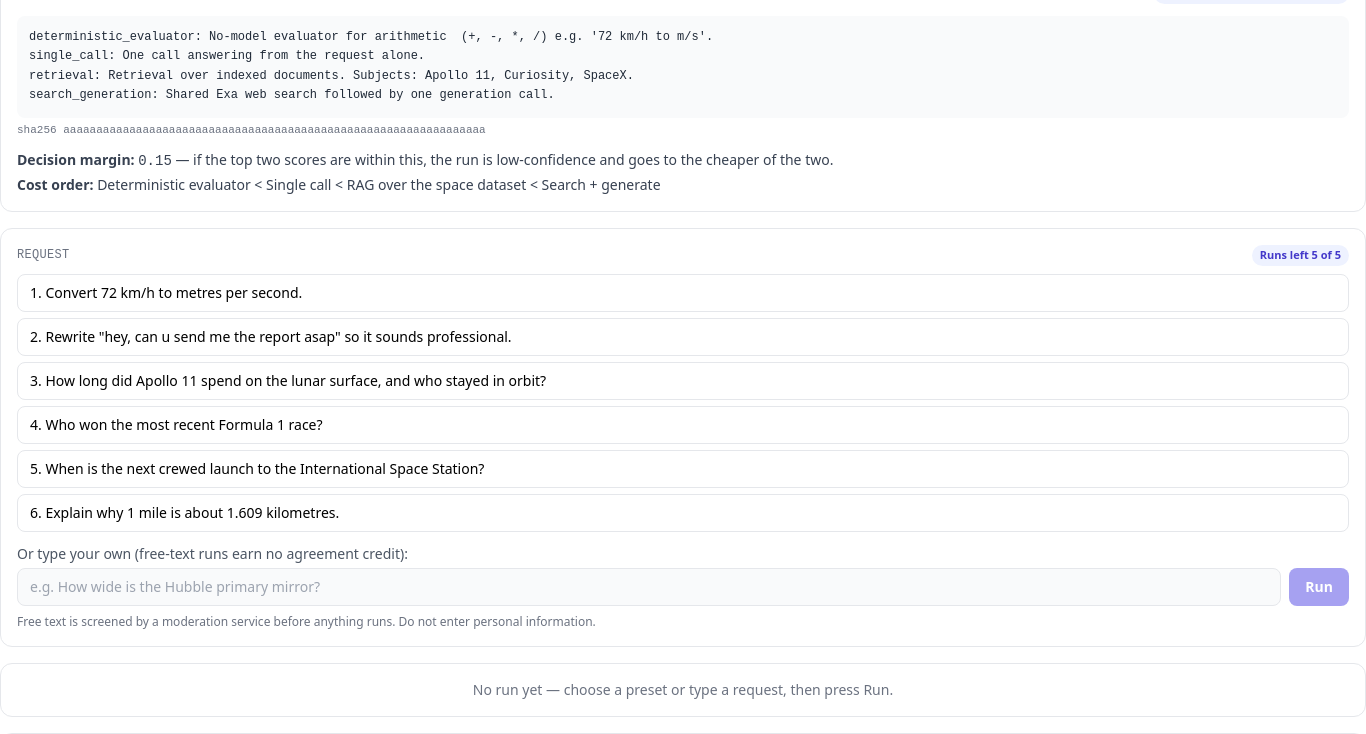
Test: a routed preset run › sends the preset id and its canonical text
The width and height of the screenshot is (1366, 734).
Click the button "next crewed launch".
click(265, 468)  # box left=17, top=450, right=1349, bottom=488
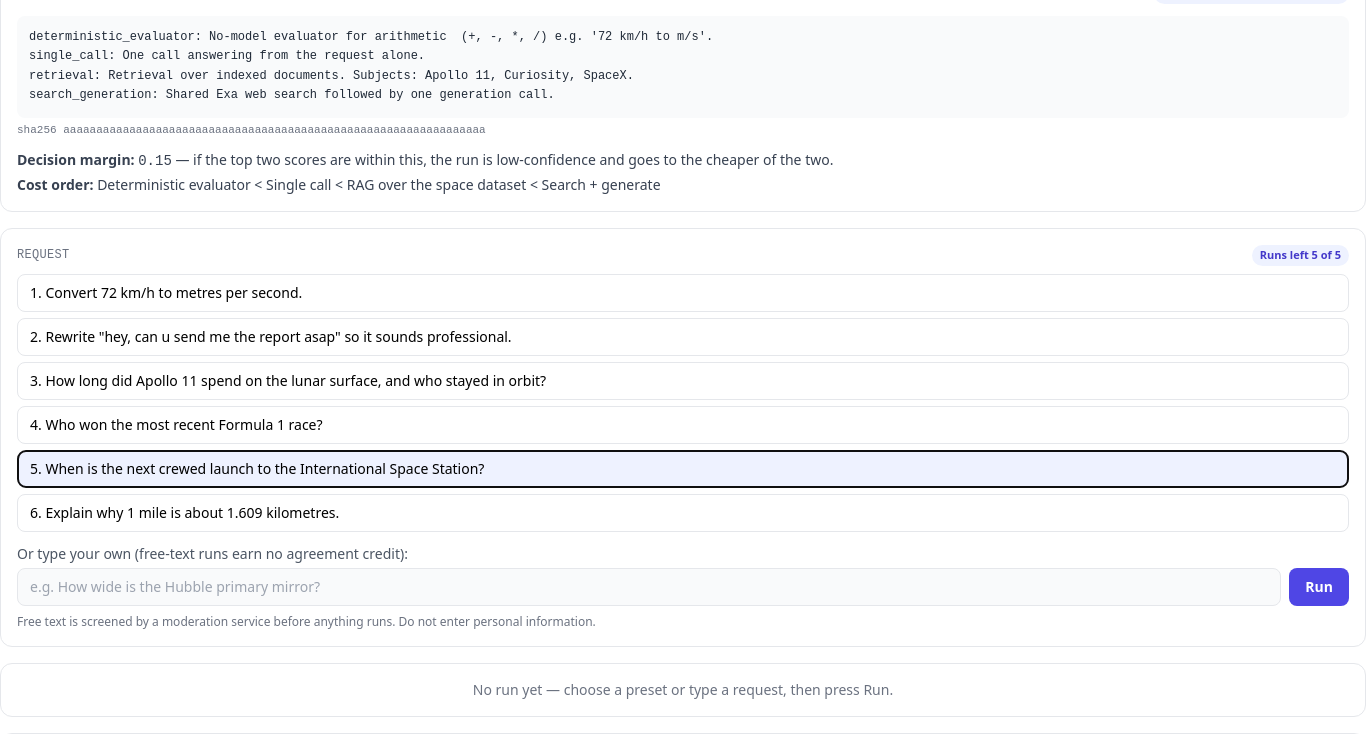
Click the button "Run".
click(1319, 586)  # box left=1289, top=568, right=1349, bottom=606
(page scrolled)
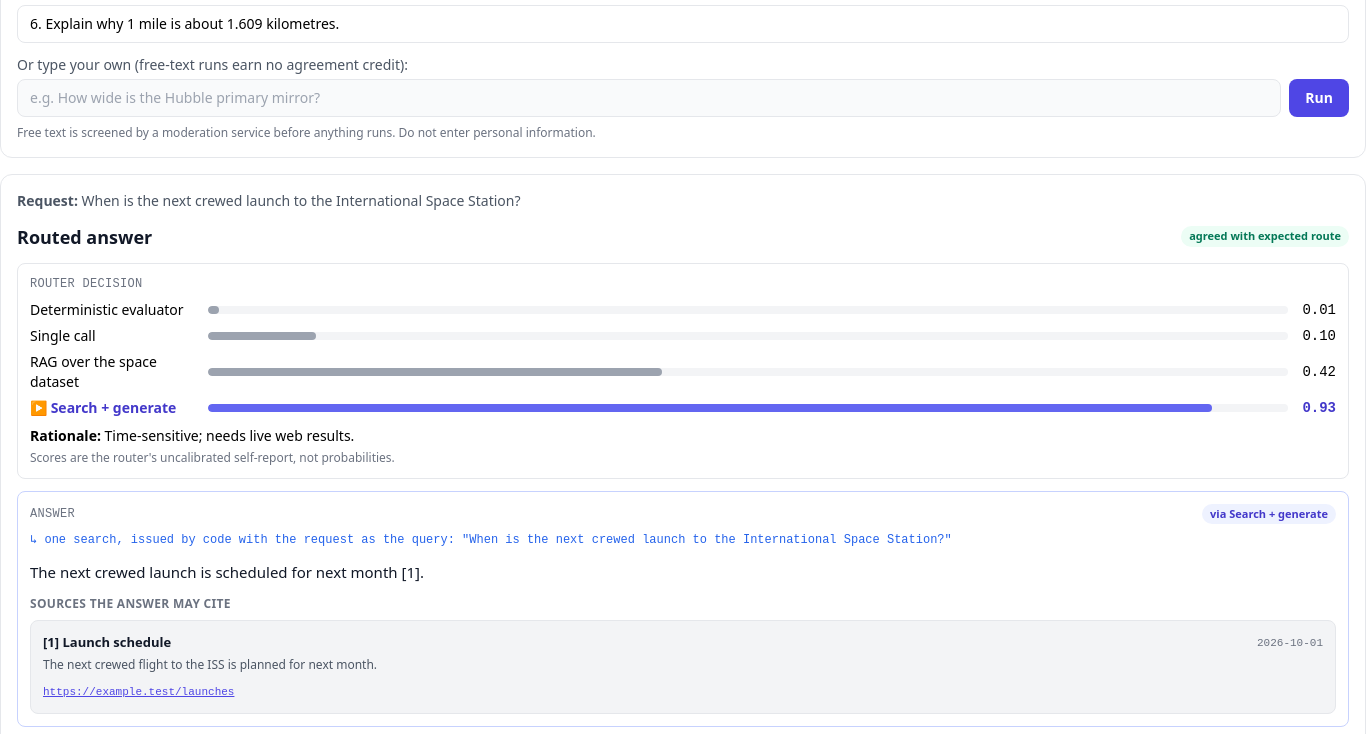
Now the element with test id "decision-card" is shown, box left=17, top=222, right=1349, bottom=478
